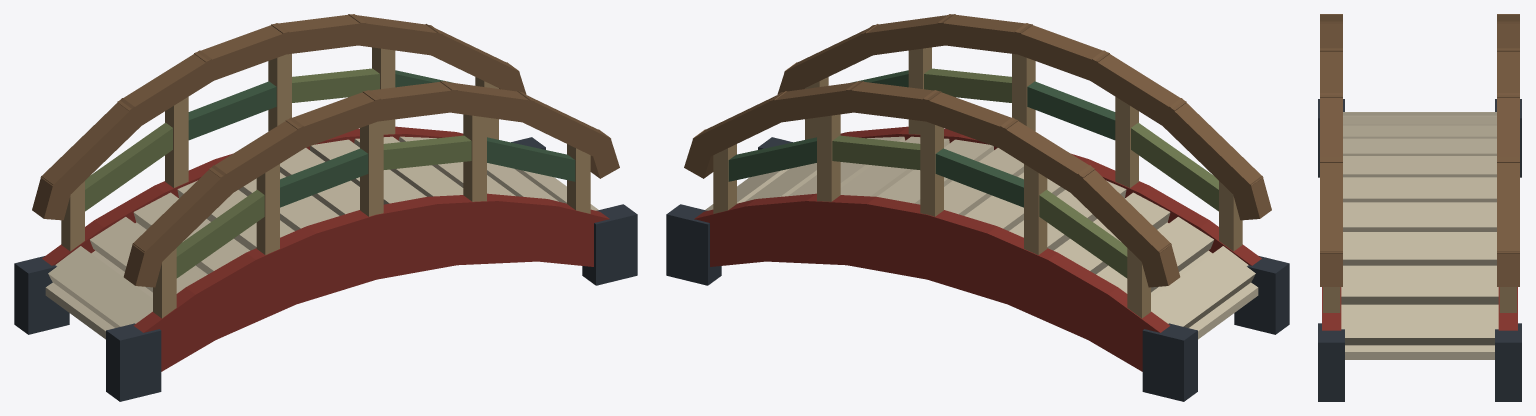
The model's file is wooden-bridge-9d2308.glb.
The picture shows the model from 3 angles, left to right: view 1: azimuth 30°, elevation 25°; view 2: azimuth 150°, elevation 25°; view 3: azimuth 270°, elevation 25°; orthographic projection. The views are drawn at different scales.
Visible parts, largest first — view 1: bridge-body; view 2: bridge-body; view 3: bridge-body.
Boxes of the visible parts, <box> form: bridge-body: <box>14,14,637,401</box>; bridge-body: <box>666,14,1289,401</box>; bridge-body: <box>1318,14,1521,401</box>.
Bounding box in the file's own units: 3 × 1.32 × 1.06.
